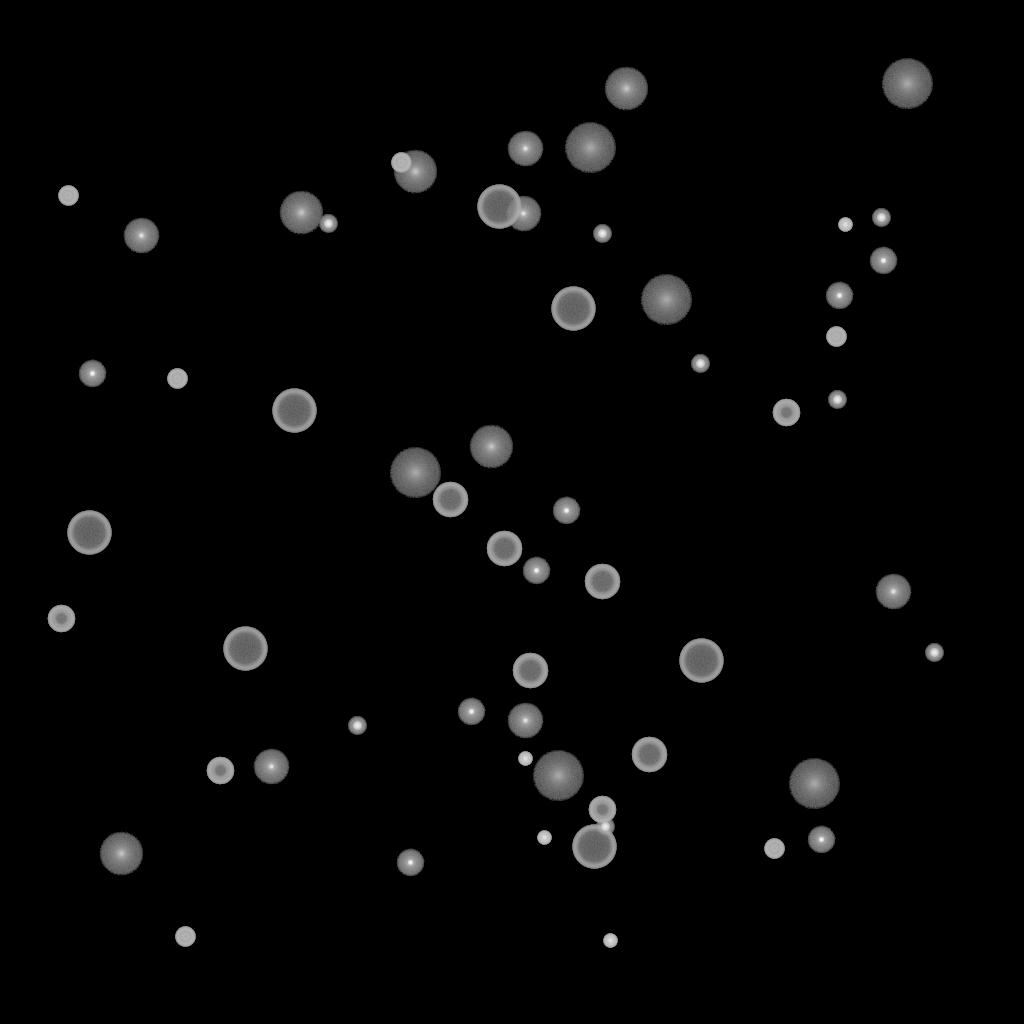depth:-10: (825, 282, 853, 310), (552, 497, 580, 525), (869, 247, 897, 275), (78, 360, 106, 388), (522, 557, 550, 585), (807, 826, 835, 854), (396, 849, 424, 877), (457, 698, 485, 726)
depth:-20: (828, 391, 846, 409), (348, 717, 366, 735), (596, 818, 614, 836), (925, 644, 943, 662), (319, 215, 337, 233), (691, 355, 709, 373), (872, 209, 890, 227), (593, 225, 611, 243)
depth:-30: (838, 218, 852, 232), (537, 831, 551, 845), (603, 934, 617, 948), (518, 752, 532, 766)
depth:-40: (391, 153, 411, 173), (175, 927, 195, 947), (764, 839, 784, 859), (167, 369, 187, 389), (58, 186, 78, 206), (826, 327, 846, 347)
depth:-50: (588, 796, 616, 824), (47, 605, 75, 633), (772, 399, 800, 427), (206, 757, 234, 785)
depth:-60: (631, 737, 667, 773), (486, 531, 522, 567), (432, 482, 468, 518), (584, 564, 620, 600), (512, 653, 548, 689)
depth:-70: (551, 287, 595, 331), (477, 185, 521, 229), (272, 389, 316, 433), (223, 627, 267, 671), (572, 825, 616, 869), (67, 511, 111, 555), (679, 639, 723, 683)
depth:0: (123, 218, 159, 254), (507, 131, 543, 167), (875, 574, 911, 610), (505, 196, 541, 232), (507, 703, 543, 739), (253, 749, 289, 785)
depth:10: (604, 67, 648, 111), (99, 832, 143, 876), (393, 150, 437, 194), (469, 425, 513, 469), (279, 191, 323, 235)
depth:20: (532, 751, 584, 801), (788, 759, 840, 809), (389, 448, 441, 498), (640, 275, 692, 325), (881, 59, 933, 109), (564, 123, 616, 173)
